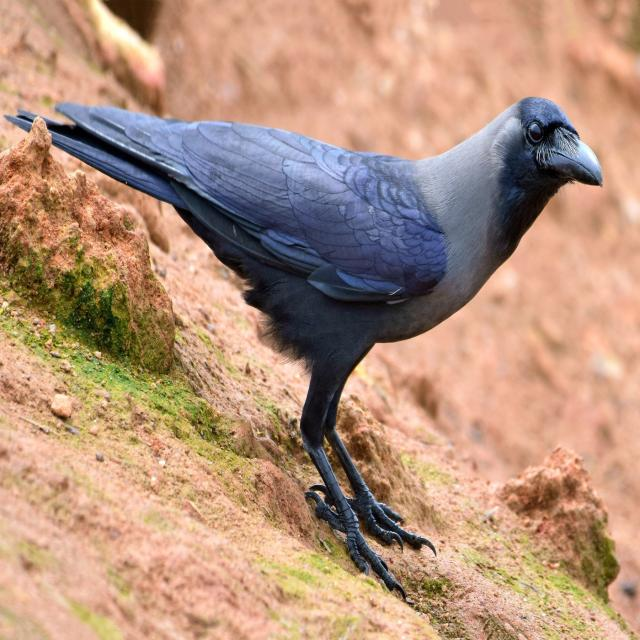crow: (172, 64, 526, 450)
